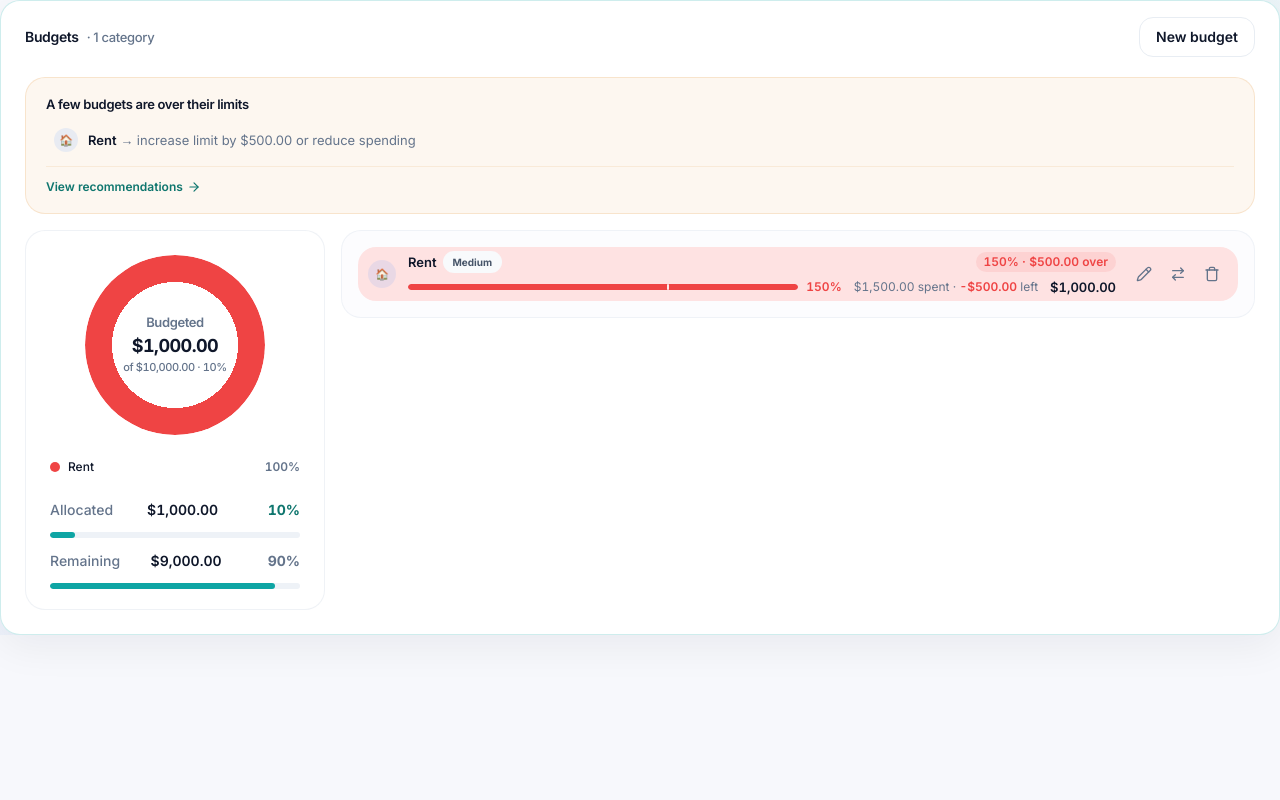
it: Row actions › opens the limit/priority edit form for an over-limit category too
Step 1. Click the button named "Edit Rent budget" → (1144, 274), box [1128,258,1160,290]
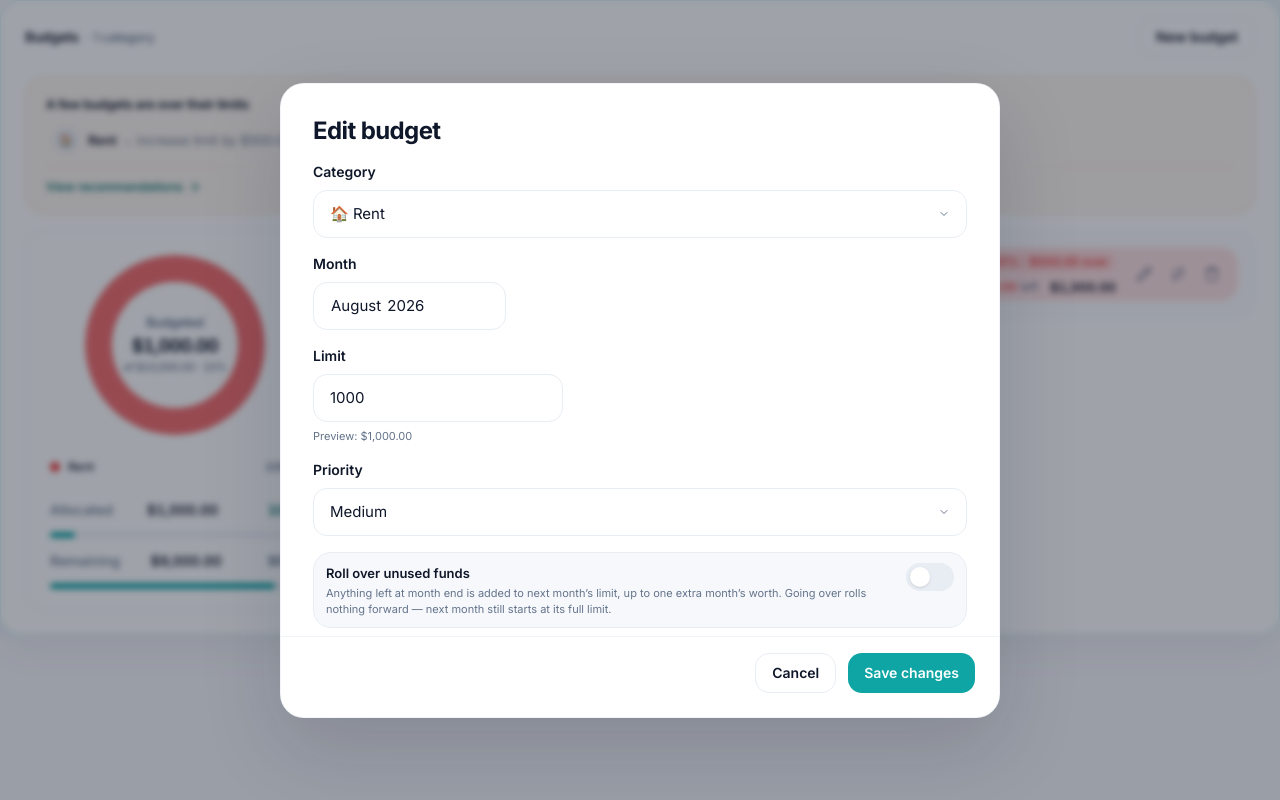
Check: the dropdown labelled "Priority" is shown, box [313,488,967,536]
